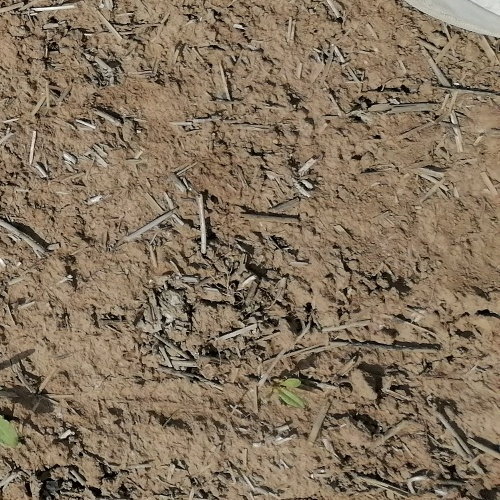beet: (272, 378, 304, 409), (0, 413, 20, 450)
